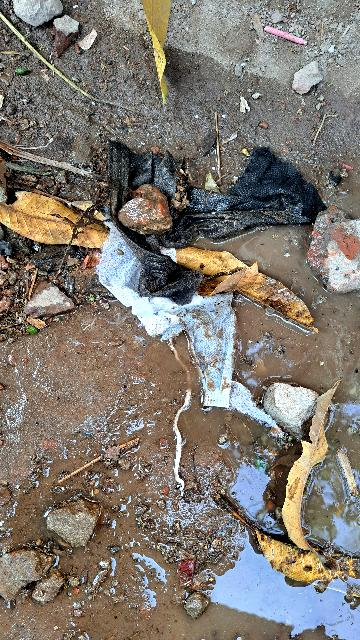mask: (81, 223, 272, 396)
